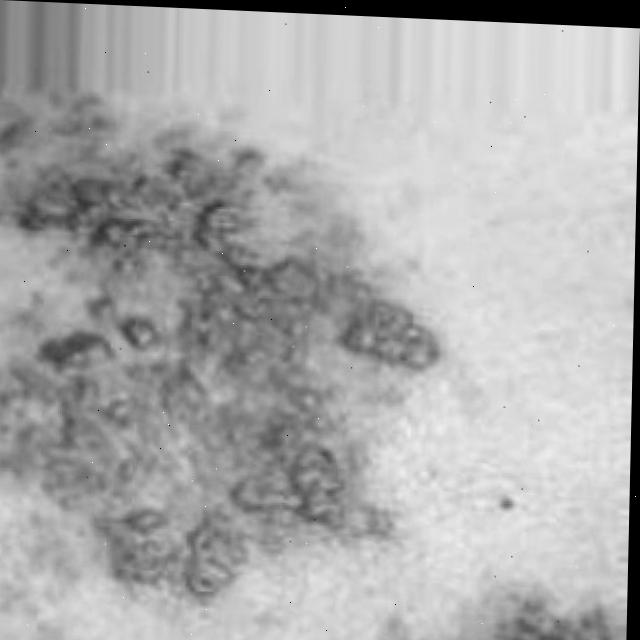Shingles: (0, 92, 450, 606), (462, 588, 619, 640)
